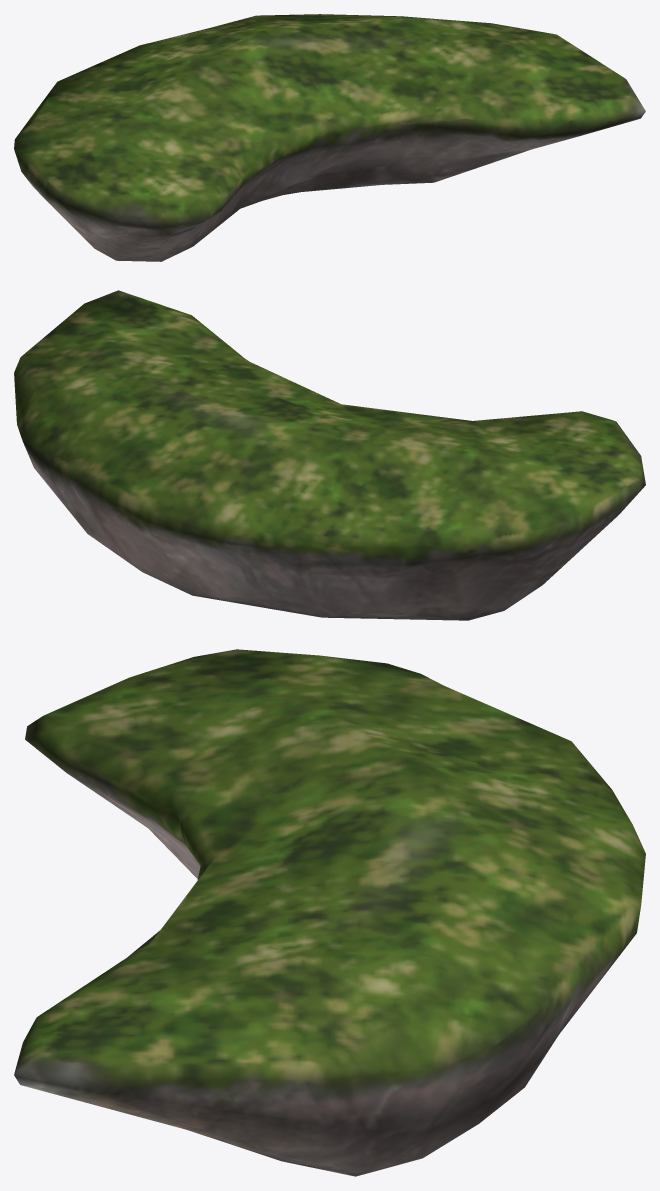
The model's file is land_rock_09.fbx.
3 renders of one model, top to bottom at view 1: azimuth 30°, elevation 25°; view 2: azimuth 150°, elevation 25°; view 3: azimuth 270°, elevation 25°, orthographic. The views are drawn at different scales.
Visible parts, largest first — view 1: land_rock_09; view 2: land_rock_09; view 3: land_rock_09.
Part boxes in pixels (bbox=[...]): land_rock_09: bbox=[14, 14, 645, 261]; land_rock_09: bbox=[14, 290, 645, 620]; land_rock_09: bbox=[14, 649, 645, 1176].
Bounding box in the file's own units: 23.91 × 6.41 × 15.
